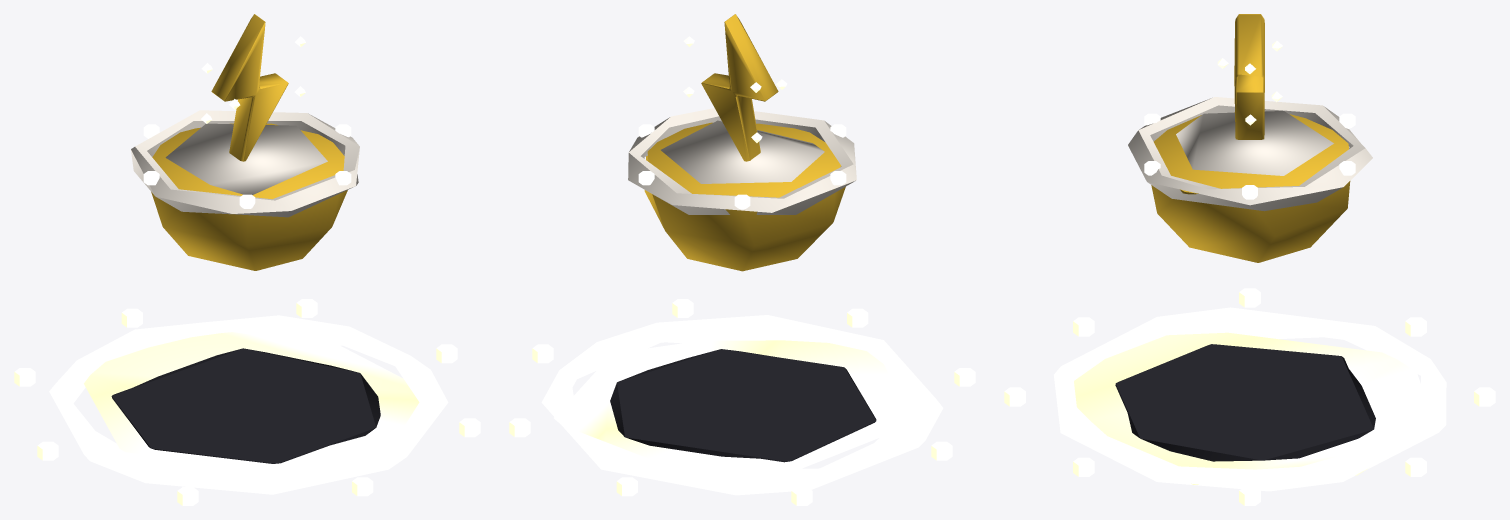
The model's file is pu_boost.glb.
The picture shows the model from 3 angles, left to right: view 1: azimuth 30°, elevation 25°; view 2: azimuth 150°, elevation 25°; view 3: azimuth 270°, elevation 25°; orthographic projection.
Parts seen in each view (by area): view 1: pu_boost.002, capsule.008; view 2: pu_boost.002, capsule.008; view 3: pu_boost.002, capsule.008.
Boxes of the visible parts, box(x1,y1,x2,y2) form: pu_boost.002: box(14, 299, 480, 505); capsule.008: box(131, 14, 359, 270); pu_boost.002: box(509, 299, 975, 505); capsule.008: box(628, 14, 856, 271); pu_boost.002: box(1004, 288, 1495, 505); capsule.008: box(1128, 14, 1372, 262).
Size of the model in its own units: 1.56 by 1.41 by 1.57.
1 material, 1 textured.
